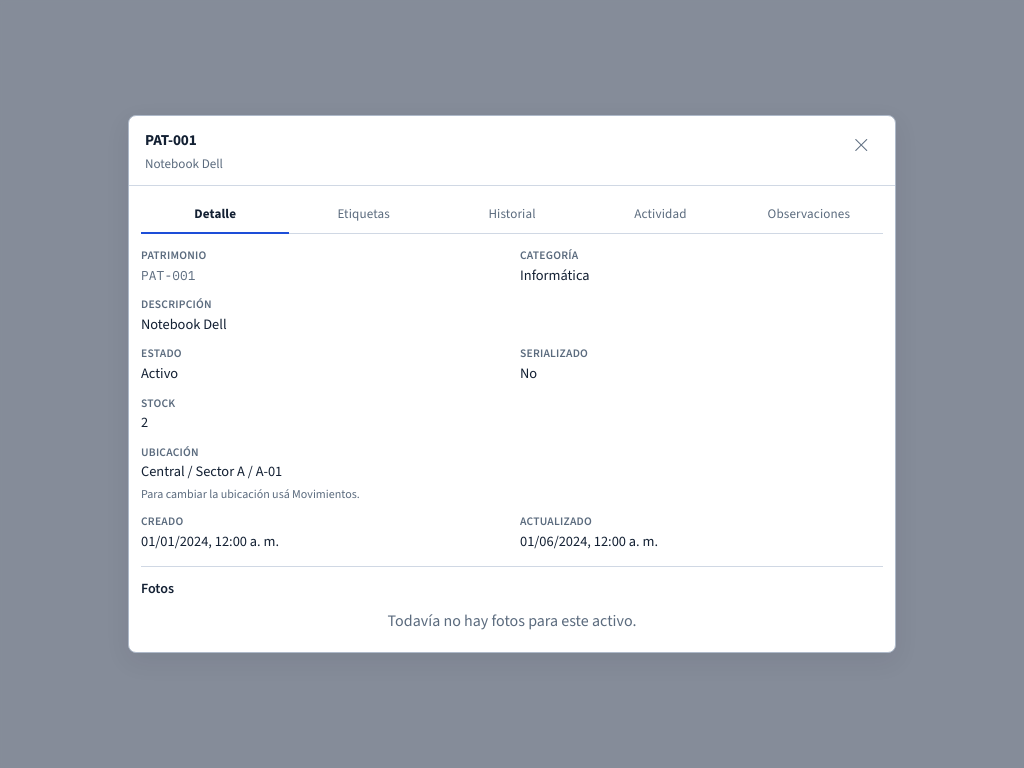
Scenario: ActivoDetalleModal › muestra historial y movimientos legibles sin UUIDs ni dumps técnicos
Click the tab "Historial": coordinates (512, 215) [438,196,586,234]
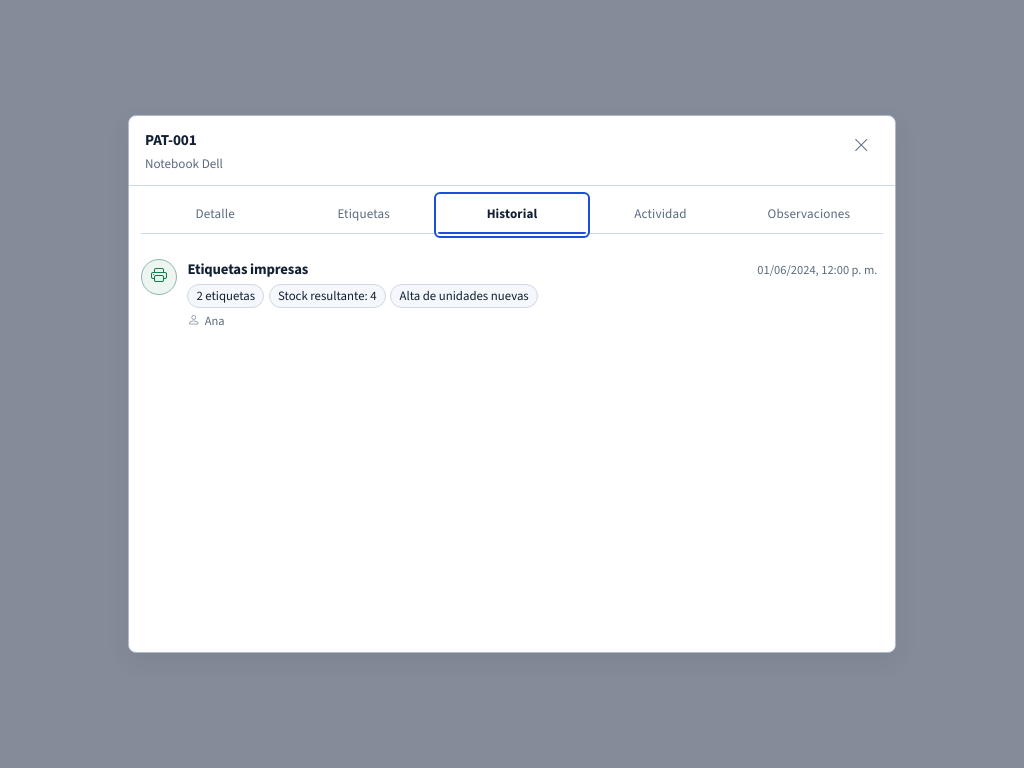
Result: the text "Etiquetas impresas" is shown at [187,259,308,279]
Result: the list item "2 etiquetas" is shown at [187,284,264,308]
Result: the list item "Stock resultante: 4" is shown at [269,284,386,308]
Click the tab "Actividad": coordinates (660, 215) [586,196,735,234]
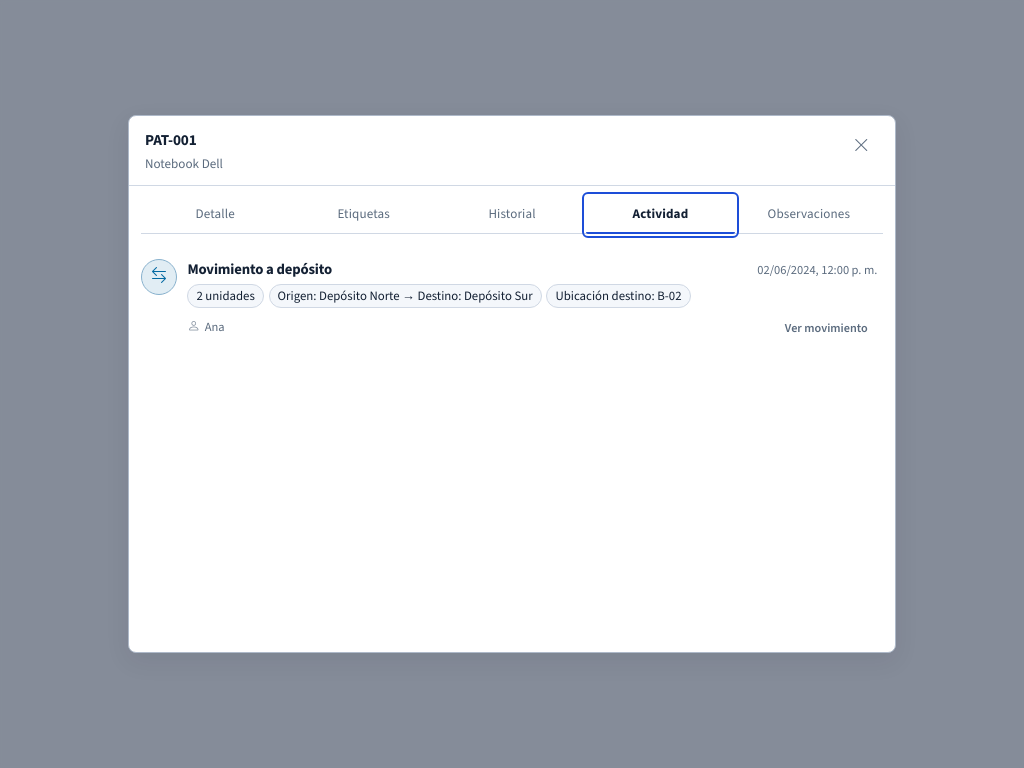
Result: the text "Movimiento a depósito" is shown at [187,259,332,279]
Result: the list item "2 unidades" is shown at [187,284,264,308]
Result: the list item "Origen: Depósito Norte → Destino: Depósito Sur" is shown at [269,284,542,308]
